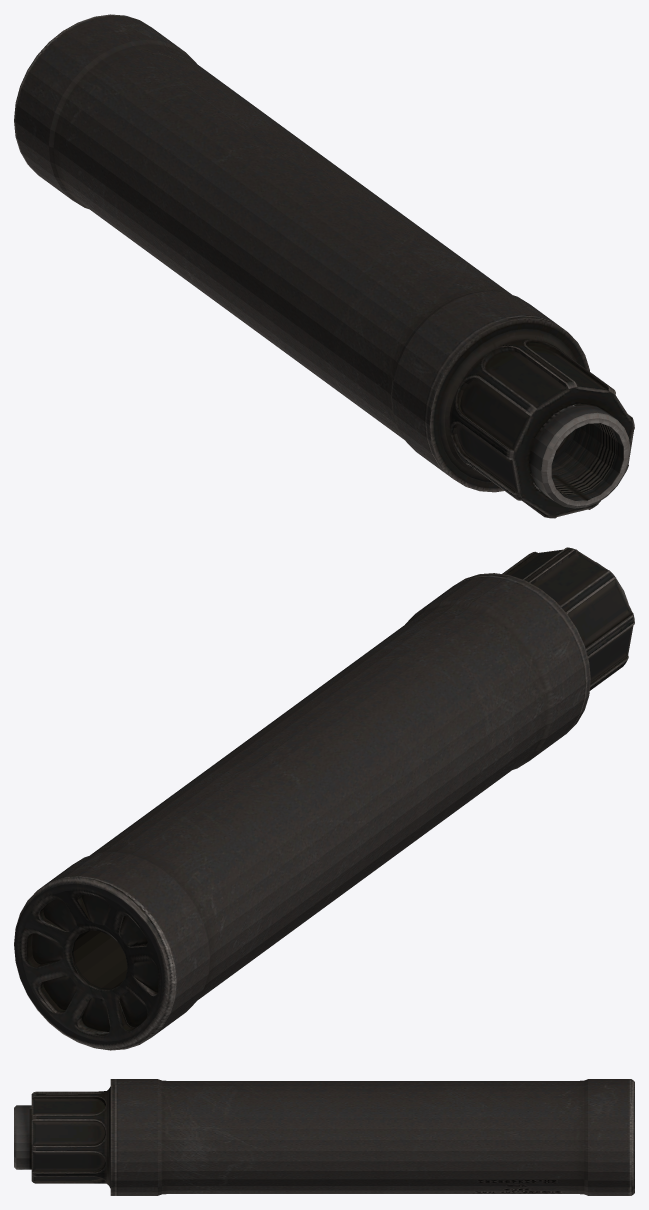
3 renders of one model, top to bottom at view 1: azimuth 30°, elevation 25°; view 2: azimuth 150°, elevation 25°; view 3: azimuth 270°, elevation 25°, orthographic. The views are drawn at different scales.
Visible parts, largest first — view 1: TW_5c6165902e22160010261b28_PZ_Import; view 2: TW_5c6165902e22160010261b28_PZ_Import; view 3: TW_5c6165902e22160010261b28_PZ_Import.
Part boxes in pixels (x1,y1,x2,y2): TW_5c6165902e22160010261b28_PZ_Import: [14, 14, 634, 518]; TW_5c6165902e22160010261b28_PZ_Import: [14, 547, 634, 1050]; TW_5c6165902e22160010261b28_PZ_Import: [14, 1079, 634, 1195].
Size of the model in its own units: 0.0198 by 0.1053 by 0.0198.
Materials: 1 (1 with a texture image).
